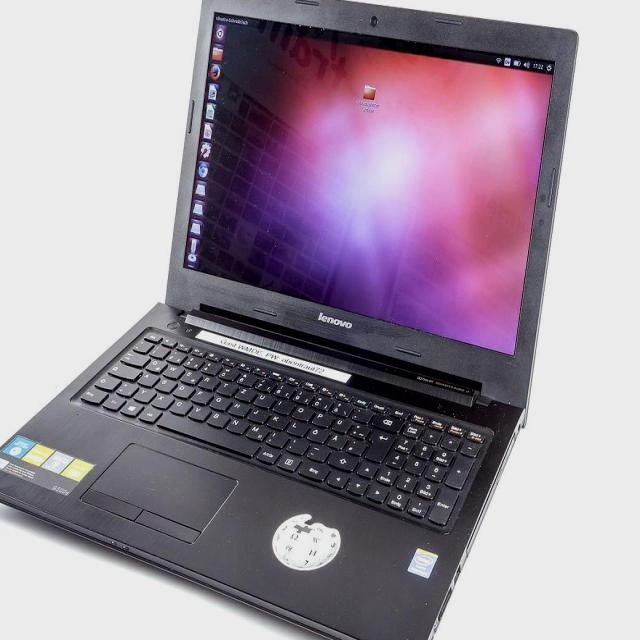0: (309, 393, 331, 409)
1: (148, 342, 170, 357)
2: (164, 346, 186, 361)
3: (181, 352, 203, 367)
4: (200, 358, 221, 373)
5: (218, 365, 239, 380)
6: (237, 371, 258, 386)
7: (252, 377, 275, 390)
8: (271, 381, 295, 397)
9: (290, 387, 312, 403)
a: (136, 368, 159, 384)
accent: (350, 404, 372, 420)
ae: (324, 430, 346, 446)
alt-left: (137, 403, 161, 420)
altgr-right: (255, 442, 279, 464)
b: (205, 408, 229, 426)
c: (168, 397, 192, 413)
caret: (132, 337, 154, 352)
comma: (264, 428, 288, 447)
d: (171, 380, 194, 396)
del: (372, 412, 404, 432)
e: (178, 368, 202, 383)
enter: (364, 427, 393, 461)
f: (189, 386, 211, 402)
g: (208, 392, 230, 408)
h: (227, 397, 250, 414)
hash: (344, 436, 367, 454)
i: (270, 396, 294, 413)
j: (246, 404, 268, 421)
k: (265, 412, 289, 428)
keyboard: (69, 324, 494, 533)
l: (285, 417, 309, 435)
less: (113, 379, 137, 395)
m: (243, 420, 268, 438)
minus: (305, 443, 329, 460)
n: (224, 415, 248, 432)
o: (291, 403, 313, 419)
oe: (305, 425, 327, 441)
p: (310, 409, 333, 425)
plus: (349, 423, 371, 439)
point: (284, 434, 308, 453)
q: (145, 357, 167, 372)
r: (196, 373, 220, 389)
s: (153, 374, 176, 391)
shift-left: (95, 373, 121, 389)
shift-lock: (107, 361, 141, 380)
shift-right: (328, 450, 358, 472)
space: (156, 411, 260, 458)
ss: (328, 398, 351, 414)
strg-left: (79, 386, 107, 404)
strg-right: (295, 458, 329, 480)
t: (215, 378, 237, 394)
tab: (120, 349, 151, 366)
u: (252, 390, 274, 406)
ue: (331, 416, 353, 432)
v: (186, 403, 210, 419)
w: (161, 360, 184, 376)
x: (149, 391, 173, 407)
y: (131, 384, 155, 400)
z: (232, 384, 256, 400)
